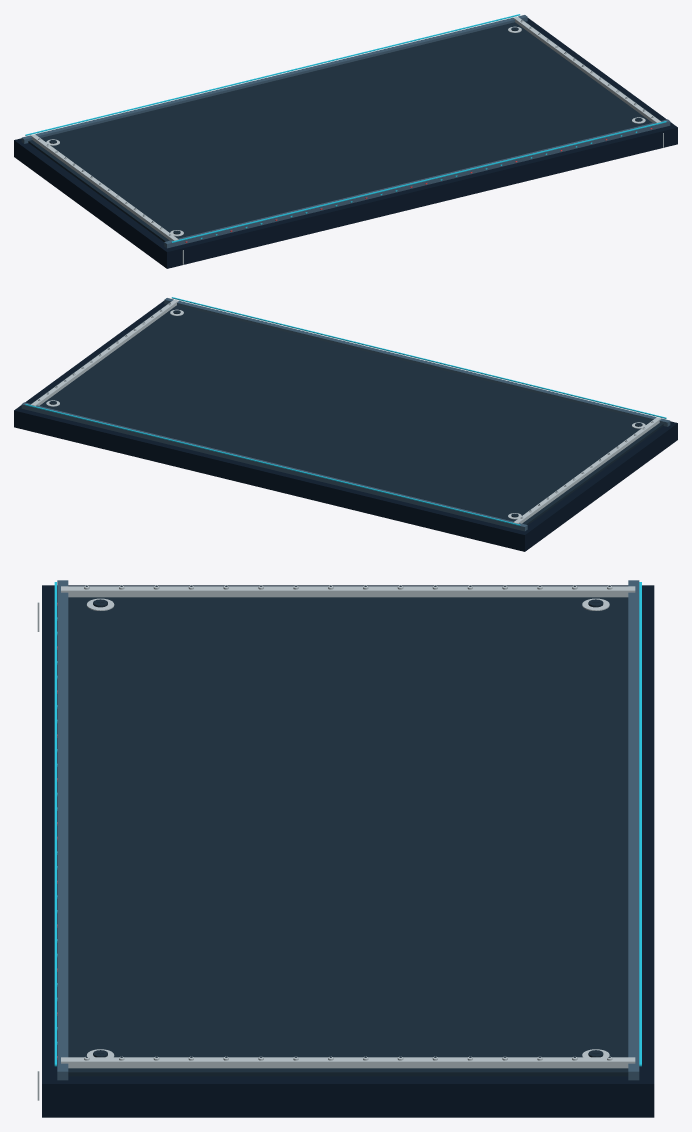
Rendered from 00_L73_IndustrialCMPWorkstationBase.fbx.
The picture shows the model from 3 angles, top to bottom: view 1: azimuth 30°, elevation 25°; view 2: azimuth 150°, elevation 25°; view 3: azimuth 270°, elevation 25°; orthographic projection. The views are drawn at different scales.
Visible parts, largest first — view 1: IndustrialCMPWorkstationBase; view 2: IndustrialCMPWorkstationBase; view 3: IndustrialCMPWorkstationBase.
Part boxes in pixels (<box>): IndustrialCMPWorkstationBase: <box>14,14,677,268</box>; IndustrialCMPWorkstationBase: <box>14,297,677,551</box>; IndustrialCMPWorkstationBase: <box>37,580,654,1117</box>.
Size of the model in its own units: 1715 by 97.25 by 897.
